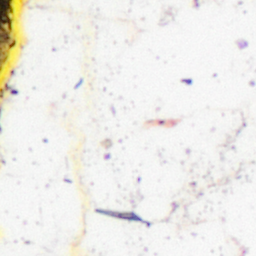cement_matrix: (0, 0, 10, 43)
cracks: (0, 0, 25, 101)
gravel_crushed_stones: (0, 0, 255, 255)
